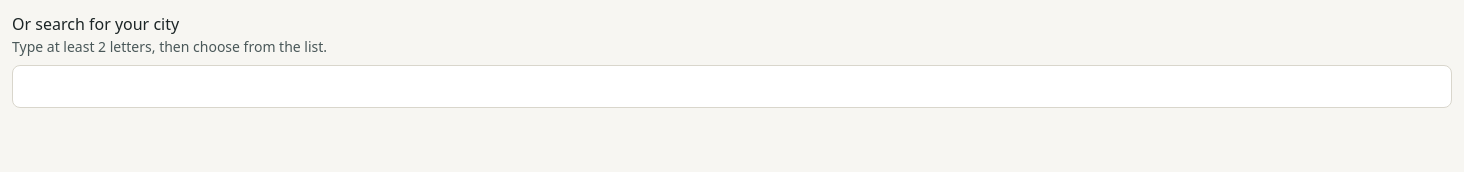
Scenario: CityCombobox › reports a search failure
Type "Delhi" into the dropdown.
click(732, 86); type("Delhi")  # box [12,65,1452,108]
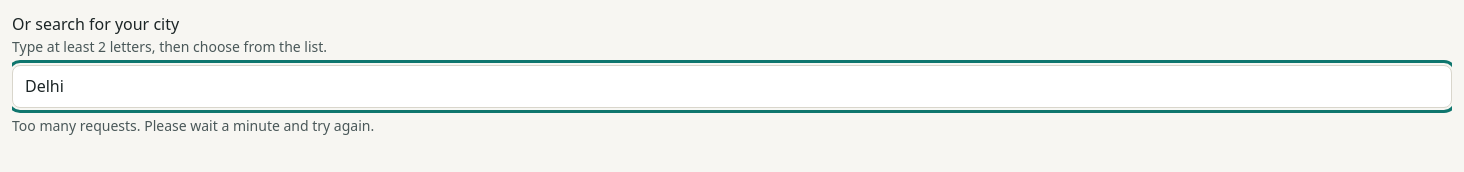
Now the text "Too many requests. Please wait a minute and try again." is shown, box [12,116,374,135]
